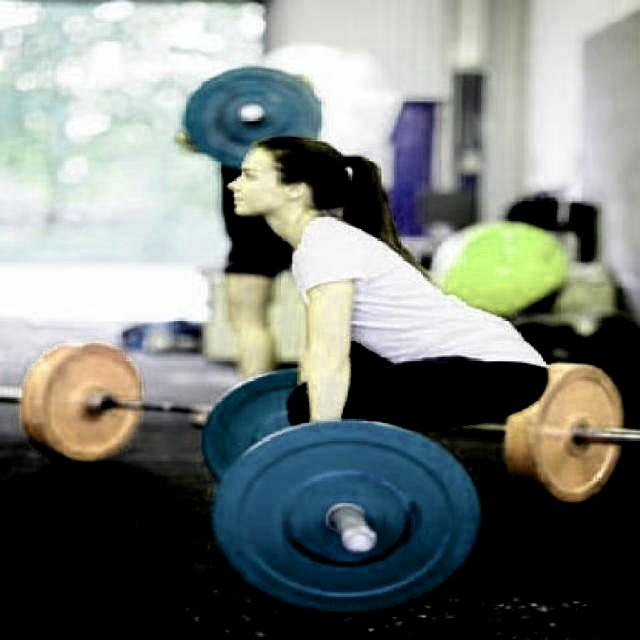barbell: (203, 412, 492, 624)
